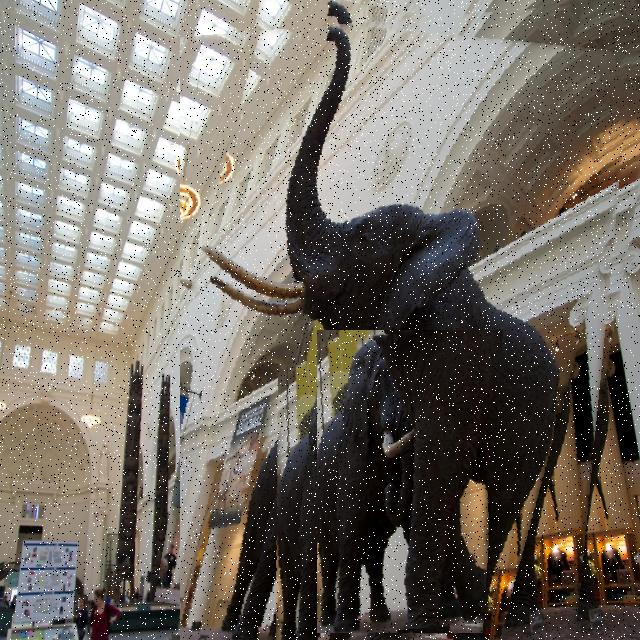elephant: (180, 0, 637, 640), (317, 330, 503, 633)
